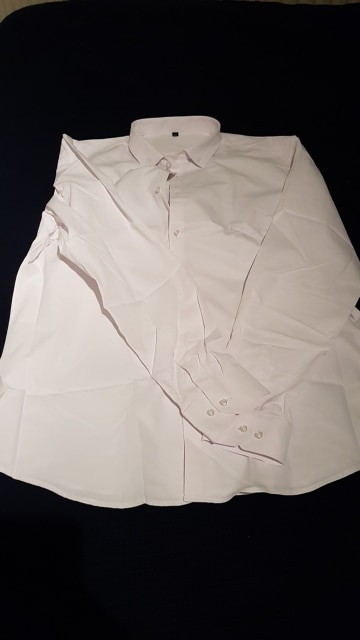shirts: (7, 112, 360, 507)
